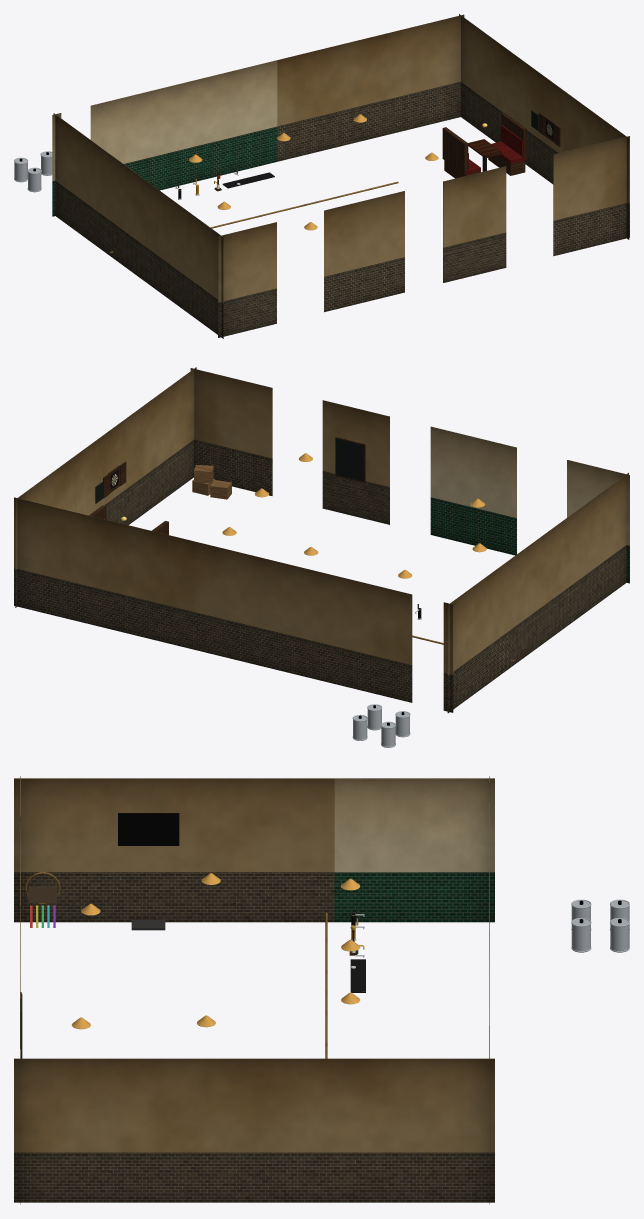
The model's file is world_00.glb.
The picture shows the model from 3 angles, top to bottom: view 1: azimuth 30°, elevation 25°; view 2: azimuth 150°, elevation 25°; view 3: azimuth 270°, elevation 25°; orthographic projection. The views are drawn at different scales.
Visible parts, largest first — view 1: c048, c017, c019, c011, c020, c050, c018, c013, c015, c016, c014, c021 (+6 smaller); view 2: c012, c010, c017, c019, c049, c020, c014, c015, c016, c023, c018, c022 (+5 smaller); view 3: c022, c021, c023, c052, c015, c016, c028, c036, c000, c002.
Part boxes in pixels (box(x1,y1,x2,y2)): c048: box(184, 60, 277, 184); c017: box(277, 37, 370, 161); c019: box(370, 14, 464, 138); c011: box(324, 191, 404, 312); c020: box(553, 136, 629, 256); c050: box(90, 83, 183, 190); c018: box(443, 166, 506, 282); c013: box(218, 222, 276, 337); c015: box(110, 154, 166, 296); c016: box(166, 196, 223, 338); c014: box(53, 113, 109, 255); c021: box(459, 14, 515, 142); c012: box(312, 570, 412, 702); c010: box(213, 546, 312, 678); c017: box(113, 522, 212, 654); c019: box(14, 497, 113, 629); c049: box(430, 426, 516, 555); c020: box(190, 368, 272, 495); c014: box(443, 561, 508, 713); c015: box(508, 517, 568, 668); c016: box(568, 472, 628, 624); c023: box(136, 367, 196, 519); c018: box(322, 400, 389, 524); c022: box(76, 411, 136, 525); c022: box(174, 1058, 334, 1202); c021: box(334, 1058, 494, 1202); c023: box(14, 1058, 174, 1202); c052: box(334, 776, 494, 922); c015: box(174, 778, 334, 922); c016: box(14, 778, 174, 922); c028: box(118, 813, 179, 845); c036: box(571, 917, 629, 952); c000: box(325, 912, 365, 1058); c002: box(25, 872, 60, 904).
Size of the model in its own units: 14 by 3.3 by 12.81.
53 materials, 53 textured.
